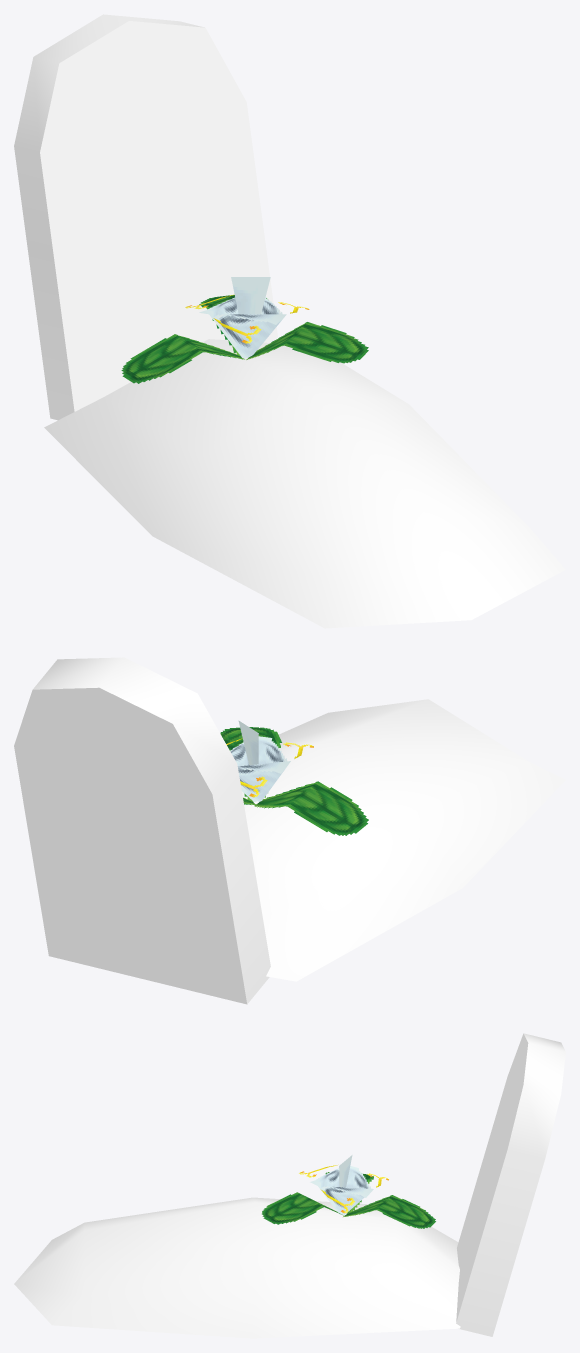
3 views of the same model, one above another, from view 1: azimuth 30°, elevation 25°; view 2: azimuth 150°, elevation 25°; view 3: azimuth 270°, elevation 25° (orthographic). The views are drawn at different scales.
Visible parts, largest first — view 1: soil, tomb_stone, lily_petal01, lily_leaf04, lily_leaf05, lily_stigma01; view 2: tomb_stone, soil, lily_leaf04, lily_petal01, lily_leaf05, lily_stigma01; view 3: soil, tomb_stone, lily_petal01, lily_leaf06, lily_leaf05.
Boxes of the visible parts, x1,y1,x2,y2 form: soil: (44,339,565,628); tomb_stone: (14,14,278,420); lily_petal01: (185,294,309,358); lily_leaf04: (121,334,244,383); lily_leaf05: (246,322,368,363); lily_stigma01: (231,277,270,314); tomb_stone: (14,657,270,1004); soil: (242,699,565,981); lily_leaf04: (254,781,368,835); lily_petal01: (226,736,313,801); lily_leaf05: (220,727,281,801); lily_stigma01: (238,720,258,765); soil: (14,1197,460,1338); tomb_stone: (456,1033,565,1336); lily_petal01: (299,1165,388,1214); lily_leaf06: (343,1195,435,1228); lily_leaf05: (262,1192,344,1224).
Bounding box in the file's own units: 99.76 × 110 × 214.
Materials: 7 (5 with a texture image).
